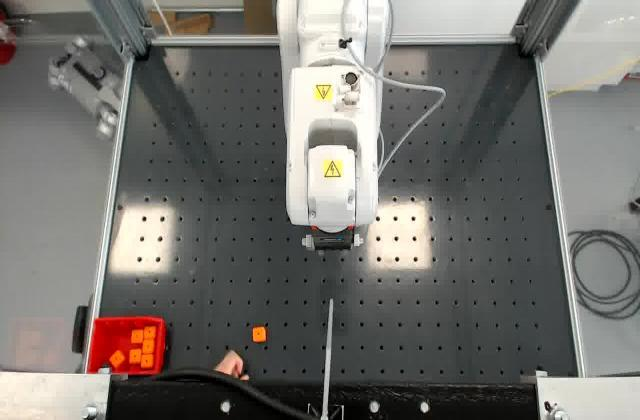cube: (252, 326, 266, 343)
